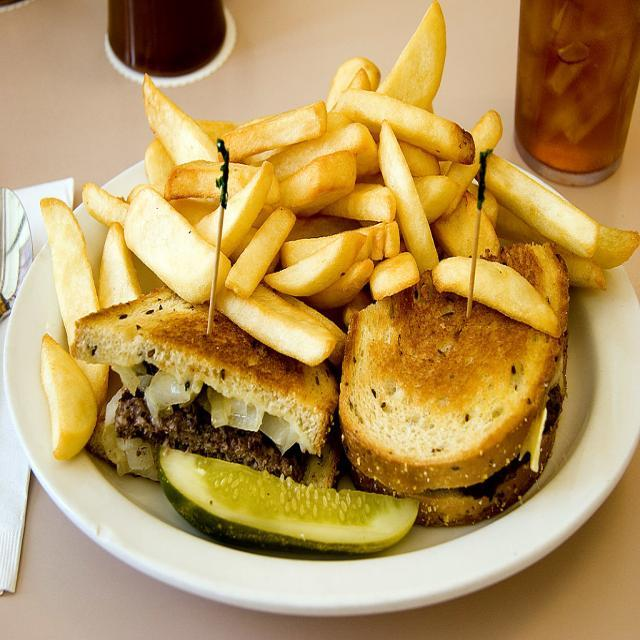Sandwich: (335, 240, 572, 532), (70, 283, 340, 478)
